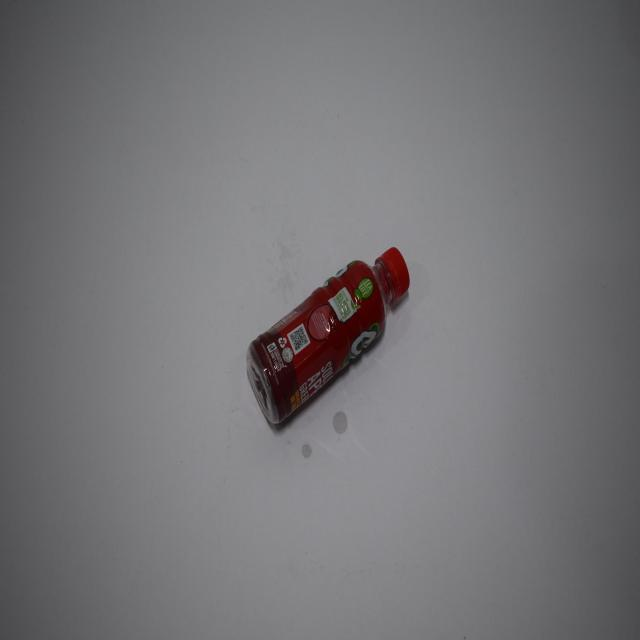bottle: (243, 235, 417, 444)
